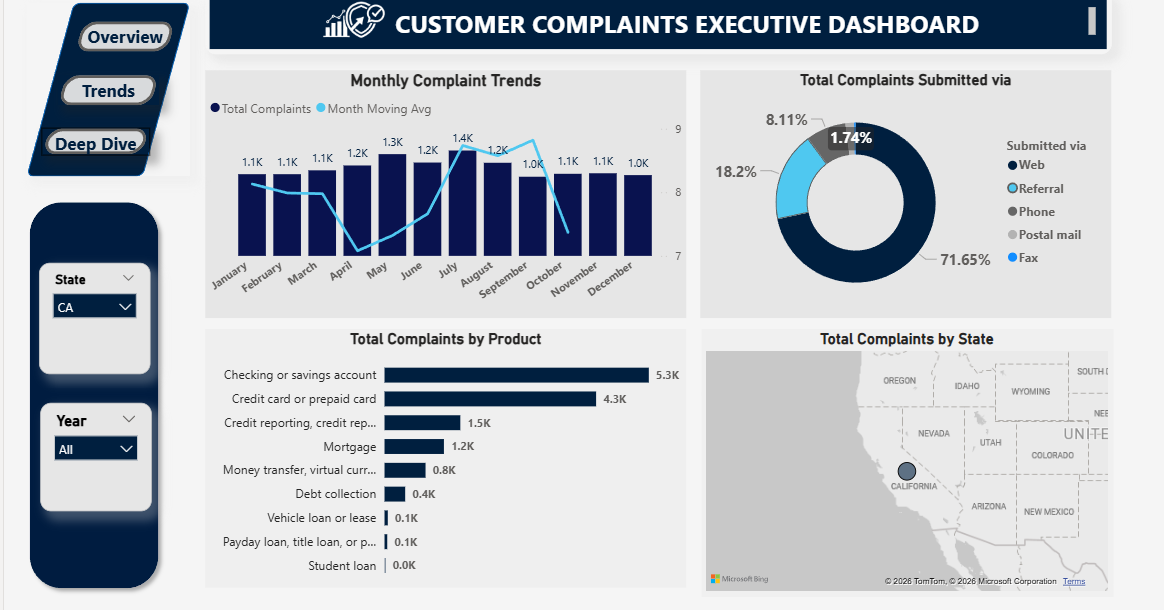

Layout of this report page (visuals, bound fields, positions):
{"tool":"powerbi","page":{"name":"Trends","canvas":[1280,720],"ordinal":1},"visuals":[{"type":"shape","box":[220.9,41.2,994.9,68.6],"z":0},{"type":"textbox","box":[312.9,53.5,890.6,42.5],"z":1000},{"type":"map","fields":{"Category":["Dim_Geography.State"],"Size":["_Measures.Total Complaints"]},"box":[765.7,411.7,451.5,293.7],"z":2000},{"type":"actionButton","box":[0,0,100,40],"z":3000},{"type":"clusteredBarChart","fields":{"Y":["_Measures.Total Complaints"],"Category":["Dim_Product.Product"]},"box":[220.9,411.7,528.3,284],"z":4000},{"type":"donutChart","title":"Total Complaints  Submitted via","fields":{"Category":["Fact_Complaints.Submitted via"],"Y":["_Measures.Total Complaints"]},"box":[764.3,127.6,451.5,271.7],"z":5000},{"type":"lineClusteredColumnComboChart","title":"Monthly Complaint Trends","fields":{"Category":["Dim_Date.Month Name"],"Y":["_Measures.Total Complaints"],"Y2":["_Measures.Month Moving Avg"]},"box":[220.9,127.6,528.3,271.7],"z":6000},{"type":"shape","box":[24.7,53.5,179.8,190.7],"z":7000},{"type":"actionButton","box":[78.2,74.1,109.8,32.9],"z":8000},{"type":"actionButton","box":[41.2,190.7,119.4,30.2],"z":9000},{"type":"actionButton","box":[59,133.1,111.1,32.9],"z":10000},{"type":"shape","box":[19.2,263.5,159.2,441.9],"z":11000},{"type":"slicer","fields":{"Values":["Dim_Geography.State"]},"box":[38.4,338.9,122.1,122.1],"z":12000},{"type":"slicer","fields":{"Values":["Dim_Date.Year"]},"box":[39.8,492.6,122.1,119.4],"z":13000},{"type":"image","box":[262.1,49.4,237.4,50.8],"z":14000}]}

Visuals, with their boxes on the page's 1280x720 design canvas (x1, y1, x2, y2). These are canvas units, not pixel positions in the 1164x610 screenshot, which may show the page scaled, cropped or inside an application window:
shape: (221,41,1216,110)
textbox: (313,54,1204,96)
map - Dim_Geography.State x _Measures.Total Complaints: (766,412,1217,705)
actionButton: (0,0,100,40)
clusteredBarChart - _Measures.Total Complaints x Dim_Product.Product: (221,412,749,696)
"Total Complaints  Submitted via" donutChart: (764,128,1216,399)
"Monthly Complaint Trends" lineClusteredColumnComboChart: (221,128,749,399)
shape: (25,54,204,244)
actionButton: (78,74,188,107)
actionButton: (41,191,161,221)
actionButton: (59,133,170,166)
shape: (19,264,178,705)
slicer - Dim_Geography.State: (38,339,160,461)
slicer - Dim_Date.Year: (40,493,162,612)
image: (262,49,500,100)
